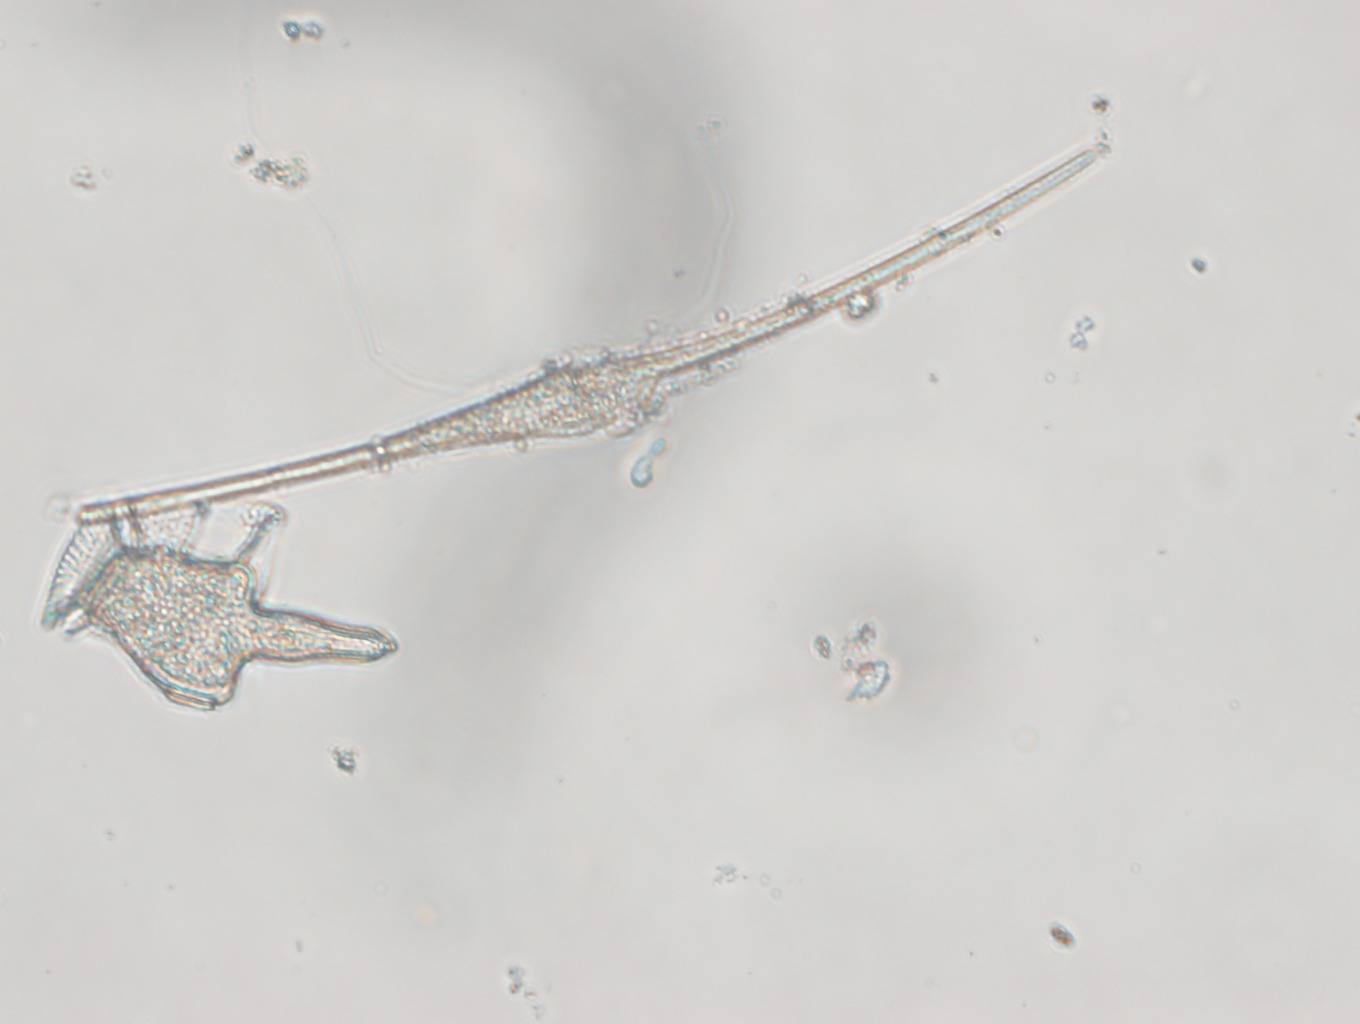ceratium fusus: (71, 144, 1100, 525)
dinophysis caudata: (37, 499, 400, 709)
